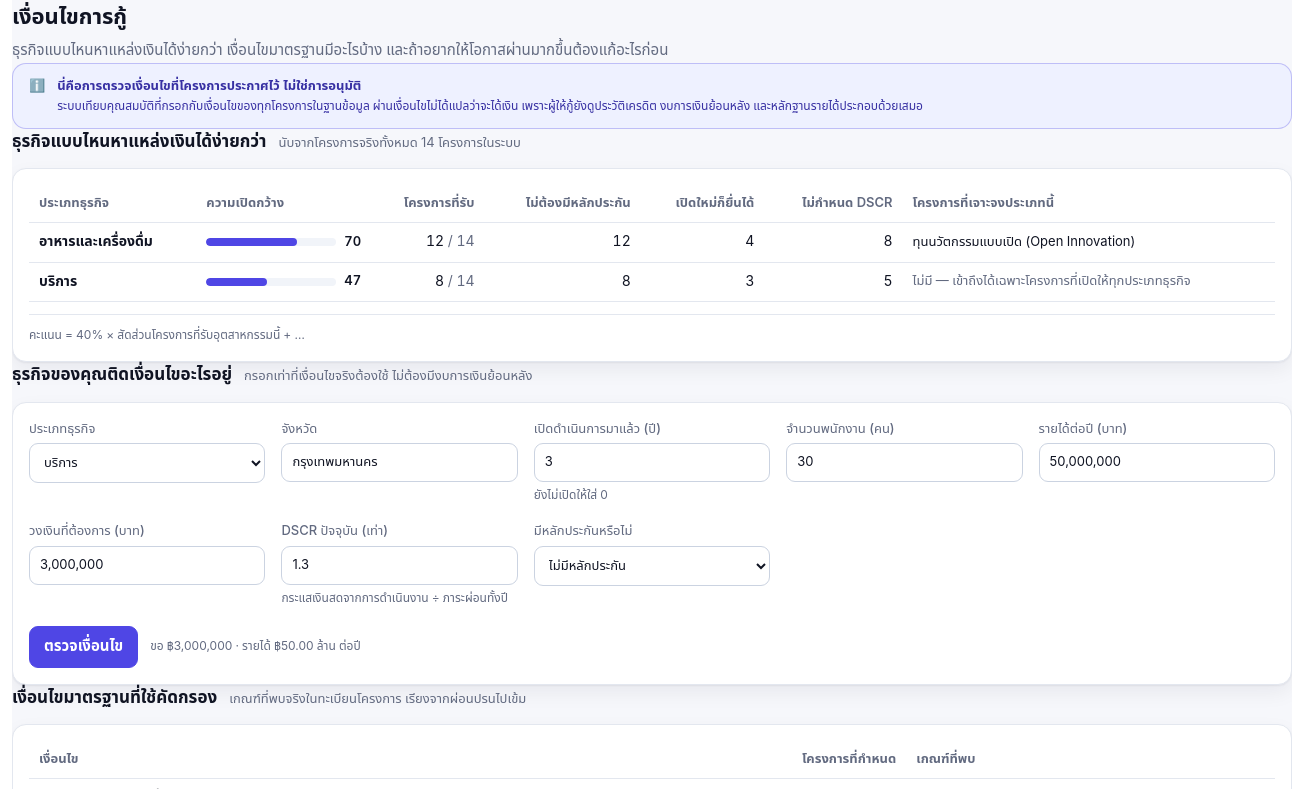
Test: เงื่อนไขที่ปลดล็อกได้ › แสดงจำนวนโครงการที่แต่ละเงื่อนไขขวางอยู่
Click the button "ตรวจเงื่อนไข" at (84, 647), box 29,626 -> 138,668
(page scrolled)
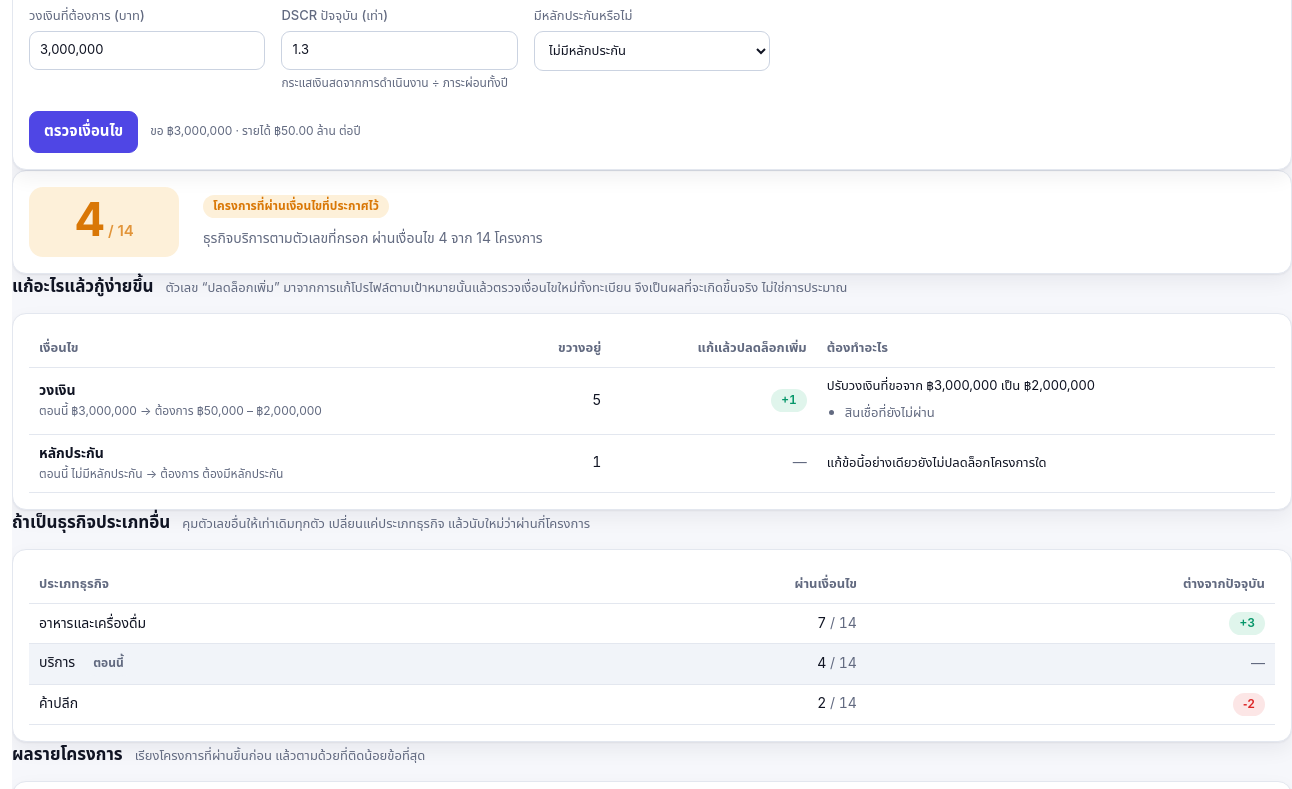
Result: the heading "แก้อะไรแล้วกู้ง่ายขึ้น" is shown at 12,274 -> 153,301
Result: the text "5" is shown at 511,368 -> 611,434
